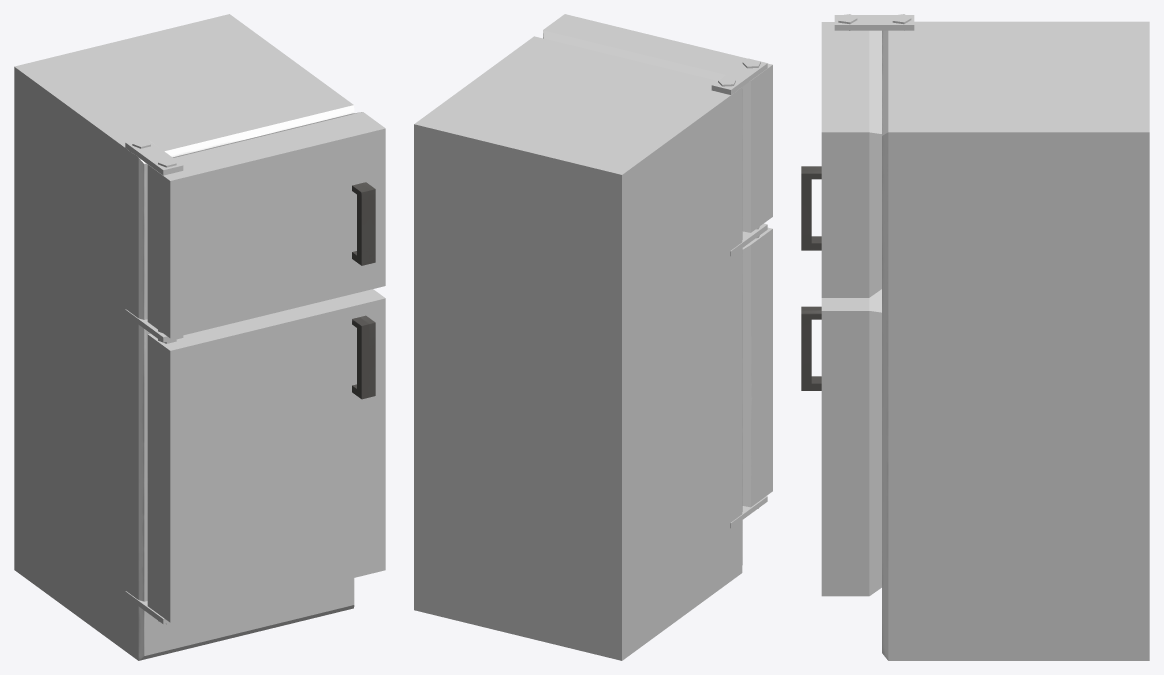
Rendered from fridge.fbx.
3 views of the same model, side by side, from view 1: azimuth 30°, elevation 25°; view 2: azimuth 150°, elevation 25°; view 3: azimuth 270°, elevation 25° (orthographic). The views are drawn at different scales.
Parts seen in each view (by area): view 1: Cube; view 2: Cube; view 3: Cube.
Part boxes in pixels (x1,y1,x2,y2): Cube: (14, 14, 385, 660); Cube: (414, 14, 772, 660); Cube: (801, 14, 1149, 660).
Bounding box in the file's own units: 201 × 454 × 267.
1 material, 1 textured.
